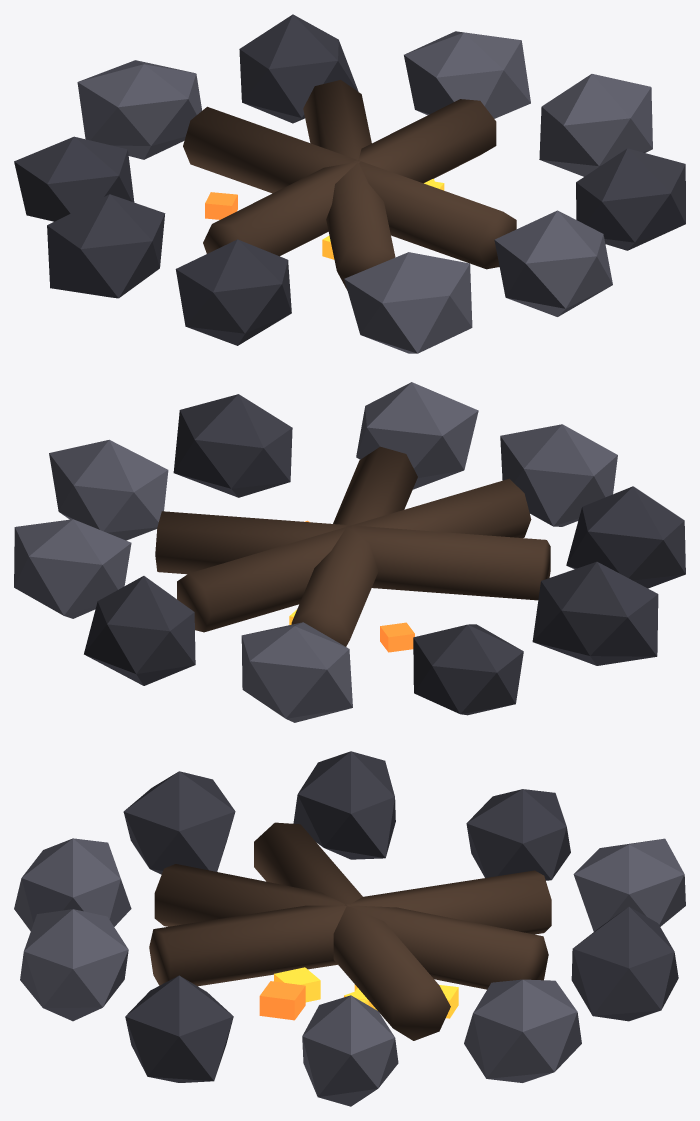
The model's file is campfire.glb.
3 renders of one model, top to bottom at view 1: azimuth 30°, elevation 25°; view 2: azimuth 150°, elevation 25°; view 3: azimuth 270°, elevation 25°, orthographic. The views are drawn at different scales.
Parts seen in each view (by area): view 1: campfire; view 2: campfire; view 3: campfire.
Boxes of the visible parts, x1,y1,x2,y2 form: campfire: (14,14,685,353); campfire: (14,382,685,722); campfire: (14,751,685,1106).
Size of the model in its own units: 0.8983 by 0.156 by 0.8276.
